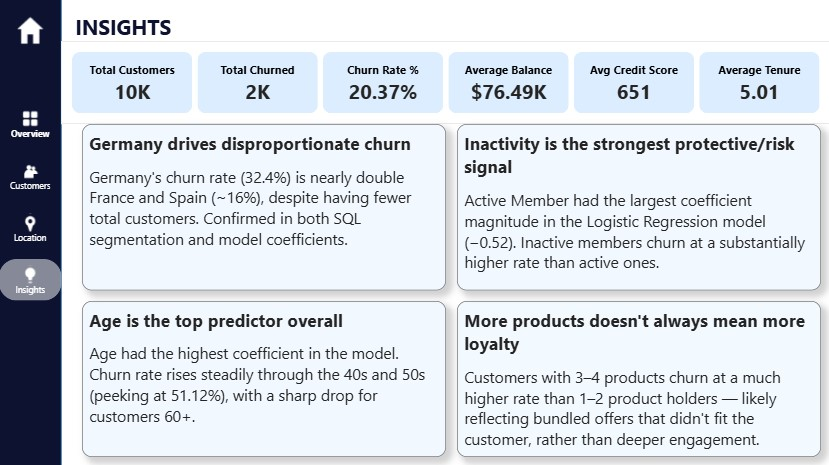

The page's visual inventory and layout, read from the dashboard file:
{"tool":"powerbi","page":{"name":"Insights","canvas":[1280,720],"ordinal":3},"visuals":[{"type":"textbox","box":[112,16,512,64],"z":0},{"type":"shape","box":[0,0,96,720],"z":1000},{"type":"actionButton","box":[0,16,96,64],"z":2000},{"type":"actionButton","box":[0,160,96,64],"z":3000},{"type":"actionButton","box":[0,240,96,64],"z":4000},{"type":"actionButton","box":[0,320,96,64],"z":5000},{"type":"actionButton","box":[0,400,96,64],"z":6000},{"type":"cardVisual","fields":{"Data":["customer_churn.Total Customers","customer_churn.Total Churned","customer_churn.Churn Rate %","customer_churn.Avg_Balance","Avg(customer_churn.CreditScore)","Avg(customer_churn.Tenure)"]},"box":[96,64,1184,128],"z":7000},{"type":"textbox","box":[128,192,560,256],"z":8000},{"type":"textbox","box":[704,192,560,256],"z":9000},{"type":"textbox","box":[704,464,560,240],"z":10000},{"type":"textbox","box":[128,464,560,240],"z":11000}]}

Visuals, with their boxes on the page's 1280x720 design canvas (x1, y1, x2, y2). These are canvas units, not pixel positions in the 829x465 screenshot, which may show the page scaled, cropped or inside an application window:
textbox: pyautogui.locateOnScreen(112, 16, 624, 80)
shape: pyautogui.locateOnScreen(0, 0, 96, 720)
actionButton: pyautogui.locateOnScreen(0, 16, 96, 80)
actionButton: pyautogui.locateOnScreen(0, 160, 96, 224)
actionButton: pyautogui.locateOnScreen(0, 240, 96, 304)
actionButton: pyautogui.locateOnScreen(0, 320, 96, 384)
actionButton: pyautogui.locateOnScreen(0, 400, 96, 464)
cardVisual - customer_churn.Total Customers x customer_churn.Total Churned: pyautogui.locateOnScreen(96, 64, 1280, 192)
textbox: pyautogui.locateOnScreen(128, 192, 688, 448)
textbox: pyautogui.locateOnScreen(704, 192, 1264, 448)
textbox: pyautogui.locateOnScreen(704, 464, 1264, 704)
textbox: pyautogui.locateOnScreen(128, 464, 688, 704)
